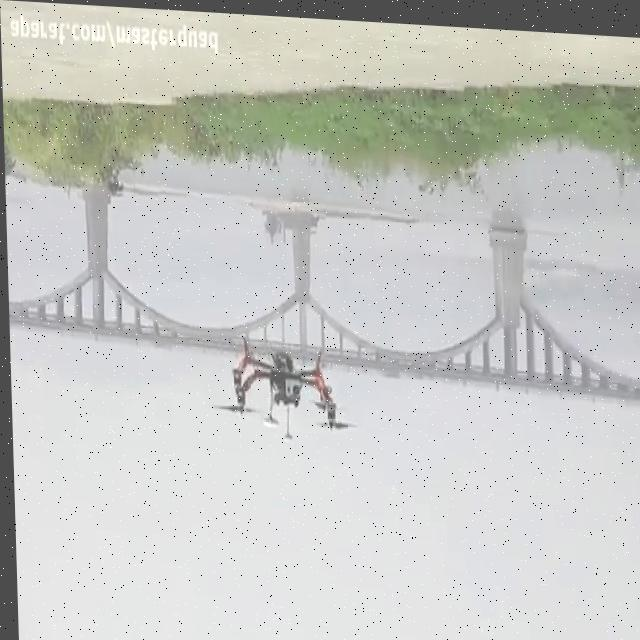drone: (205, 329, 357, 446)
